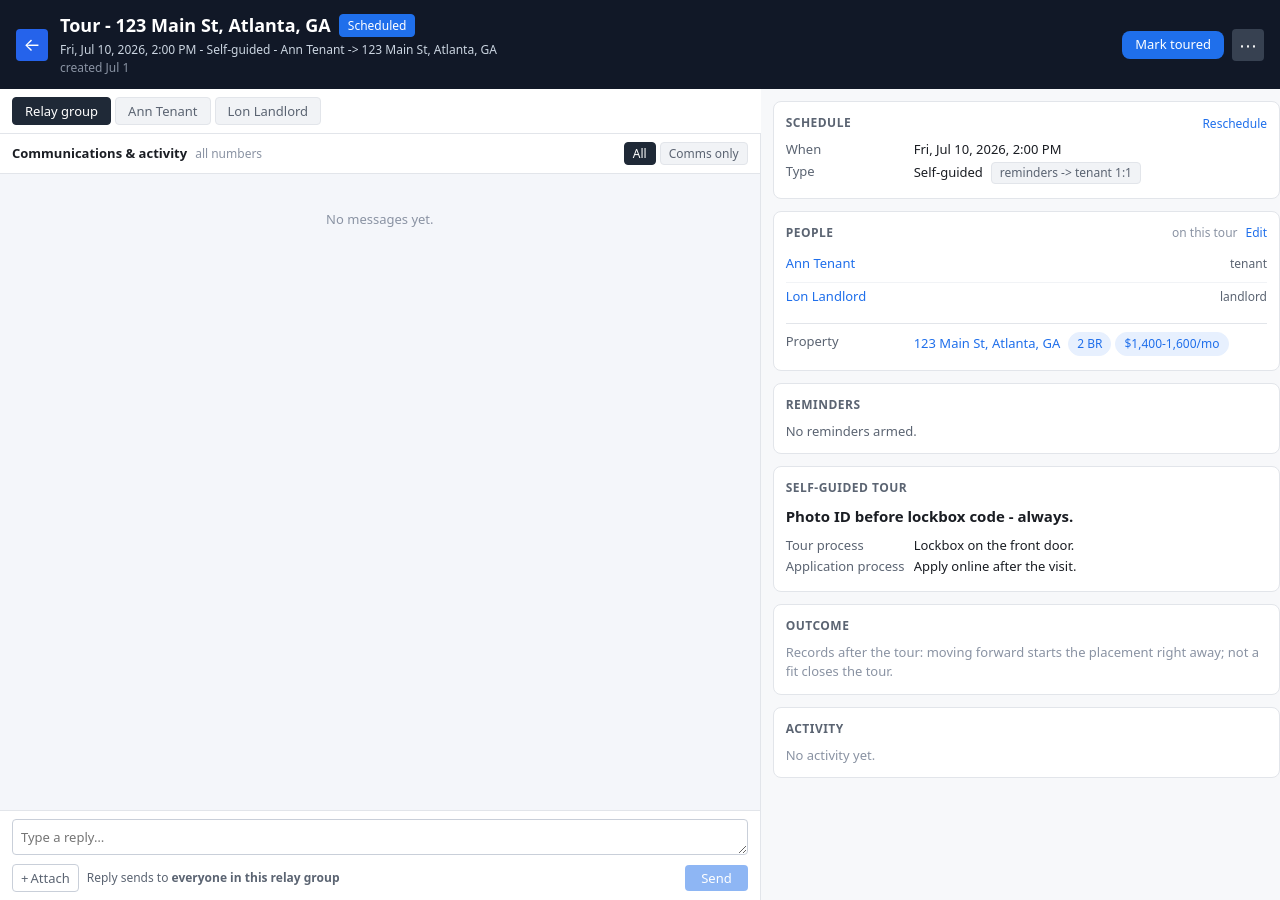
TourDetail - kebab guards › scheduled: Reschedule + Cancel + Mark no-show (no Open group when a group exists)
Expected: the link "←" is shown, [16,28,48,60]
What coordinates should you click on to do the following:
click the button named "More actions"
I would click on:
 (1248, 44)
Its box is [1232,28,1264,60].
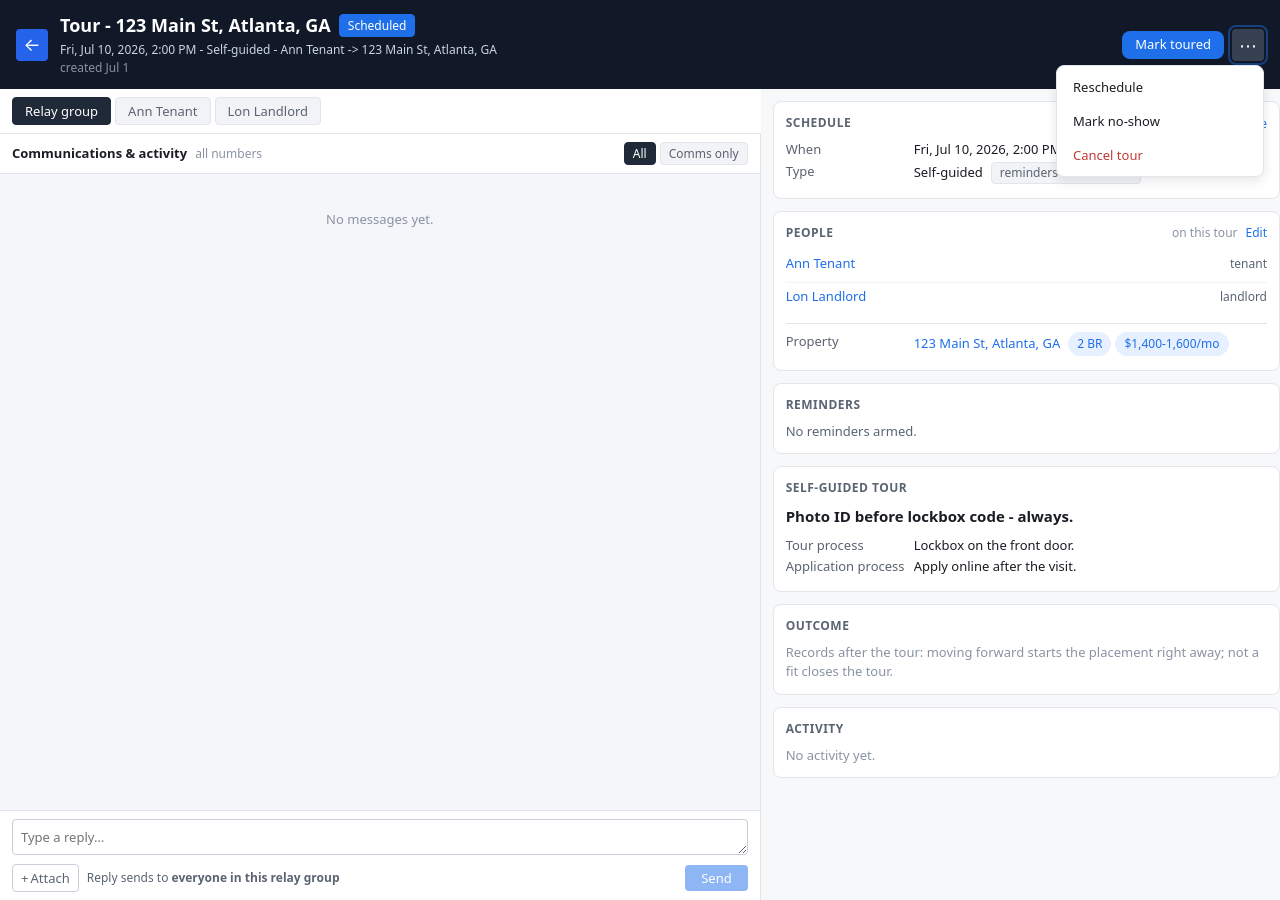
Expected: the menu item "Reschedule" is shown, [1061,70,1259,104]
Expected: the menu item "Cancel tour" is shown, [1061,138,1259,172]
Expected: the menu item "Mark no-show" is shown, [1061,104,1259,138]
